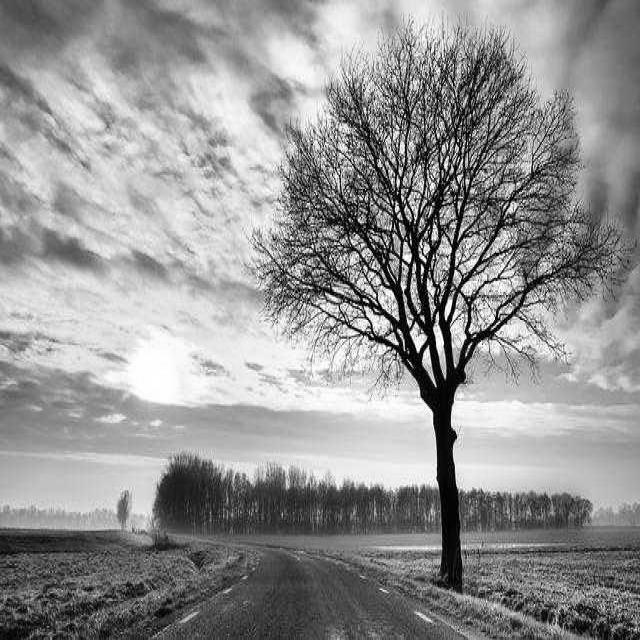Tree: (252, 21, 628, 588)
